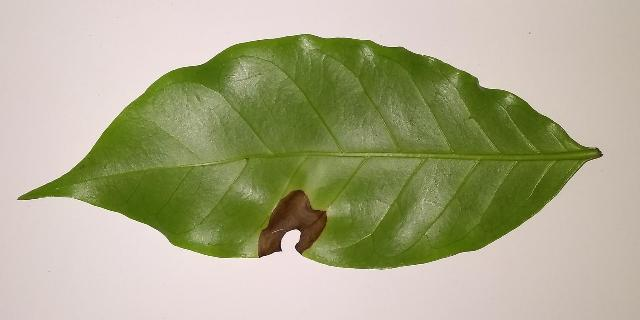rust: (258, 190, 326, 257)
